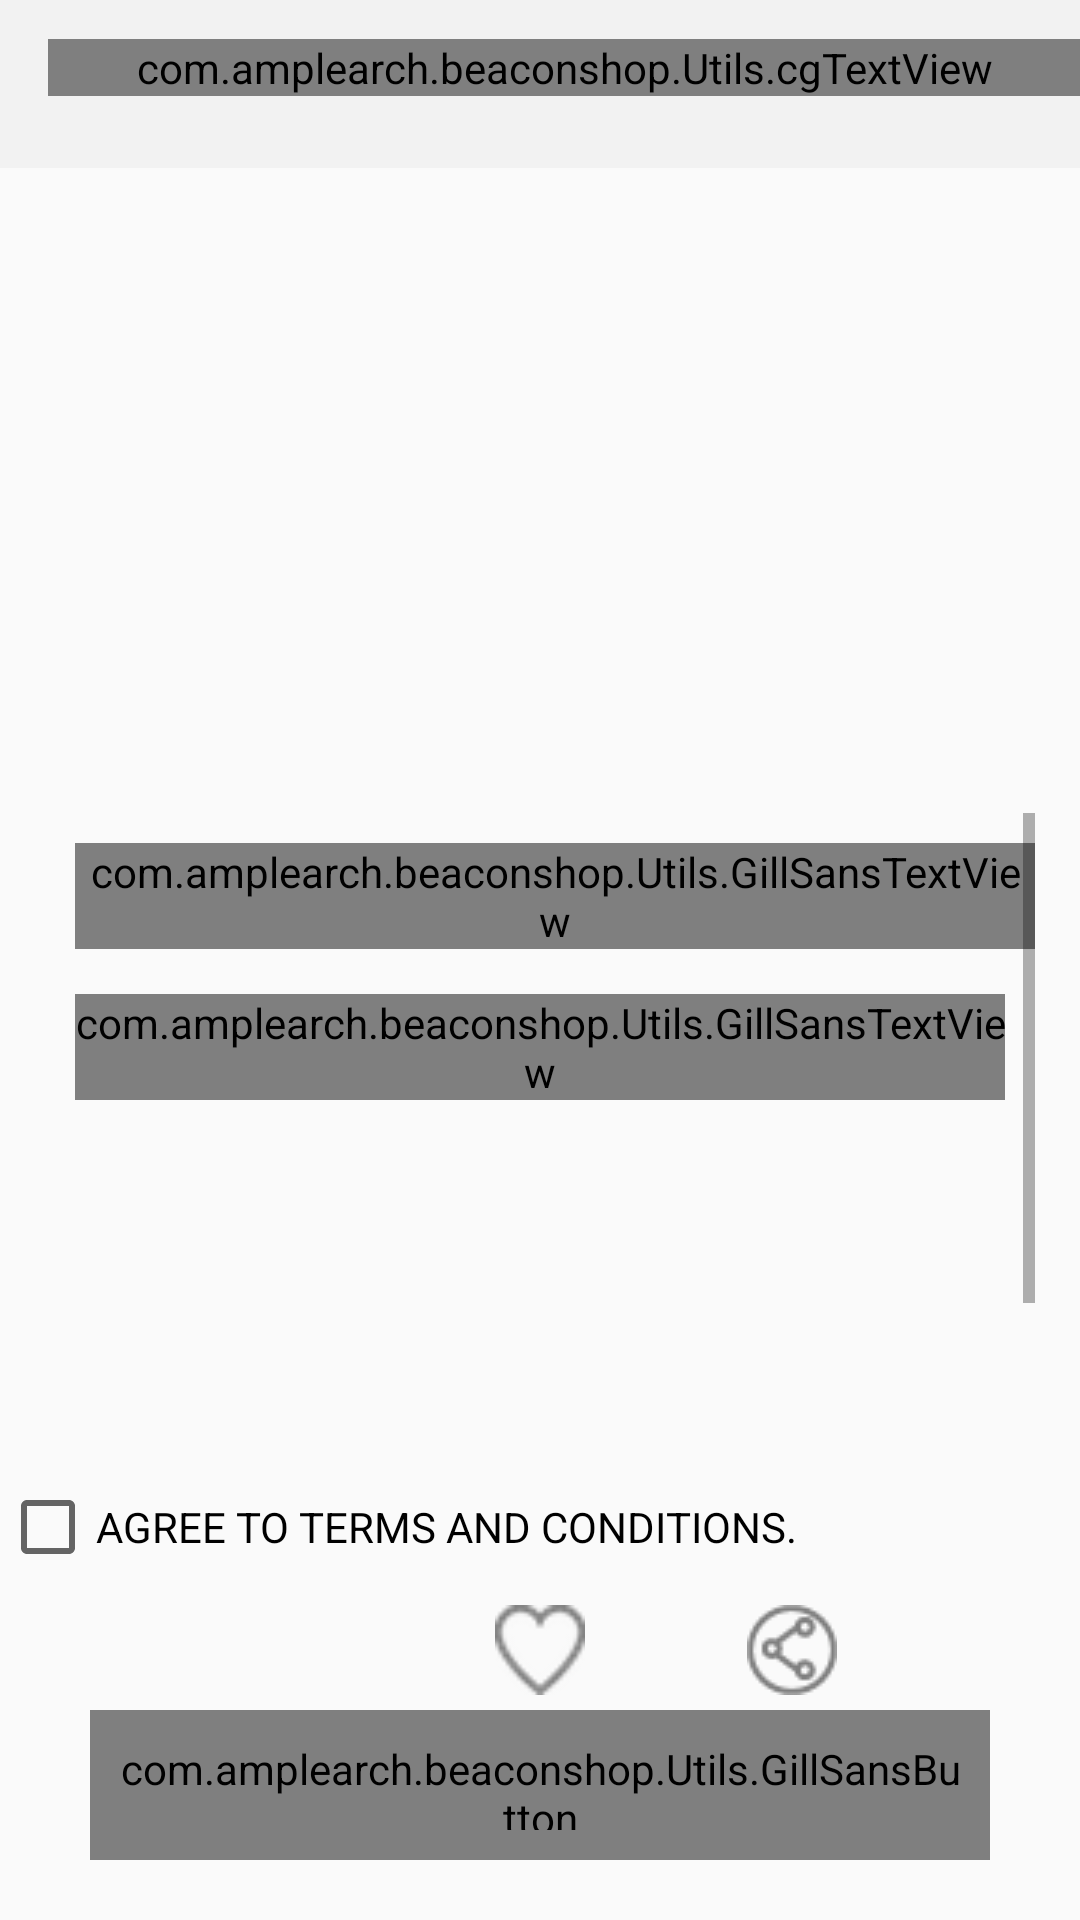

Icons on this 1080 × 1920 Android screen, each with its box as bbox(x1, y1, x2, y2):
share: bbox(747, 1605, 837, 1695)
